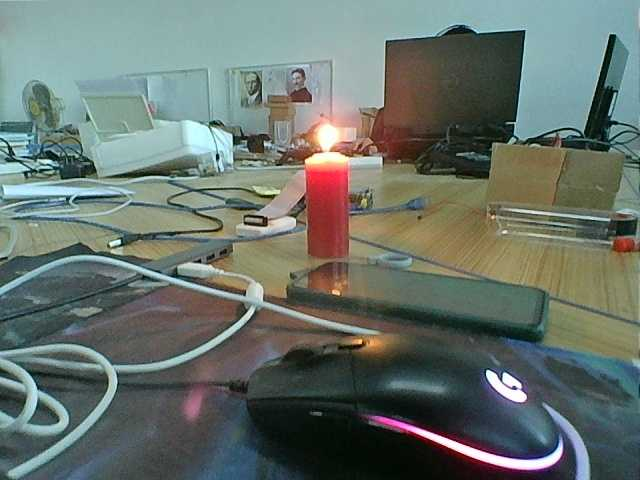candle: (297, 162, 364, 259)
fire: (301, 114, 350, 158)
